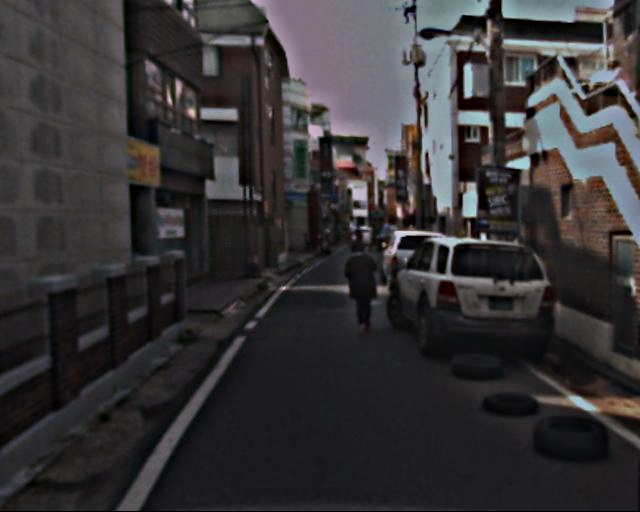person: (342, 241, 383, 340)
